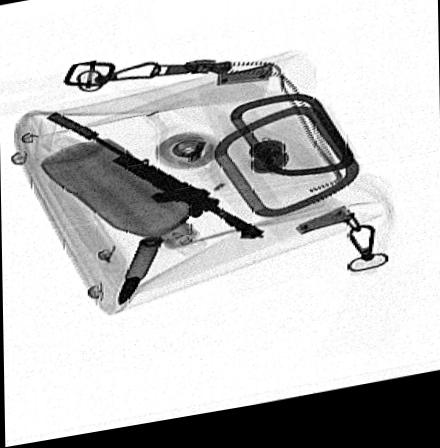Bullet: (114, 239, 158, 309)
Gun: (44, 113, 268, 247)
